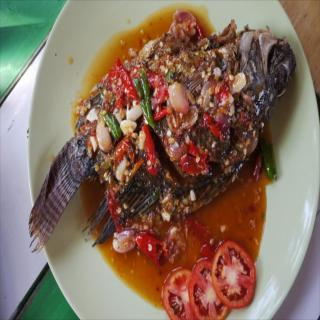tomato: (211, 240, 257, 308), (188, 255, 230, 319), (161, 265, 192, 319)
